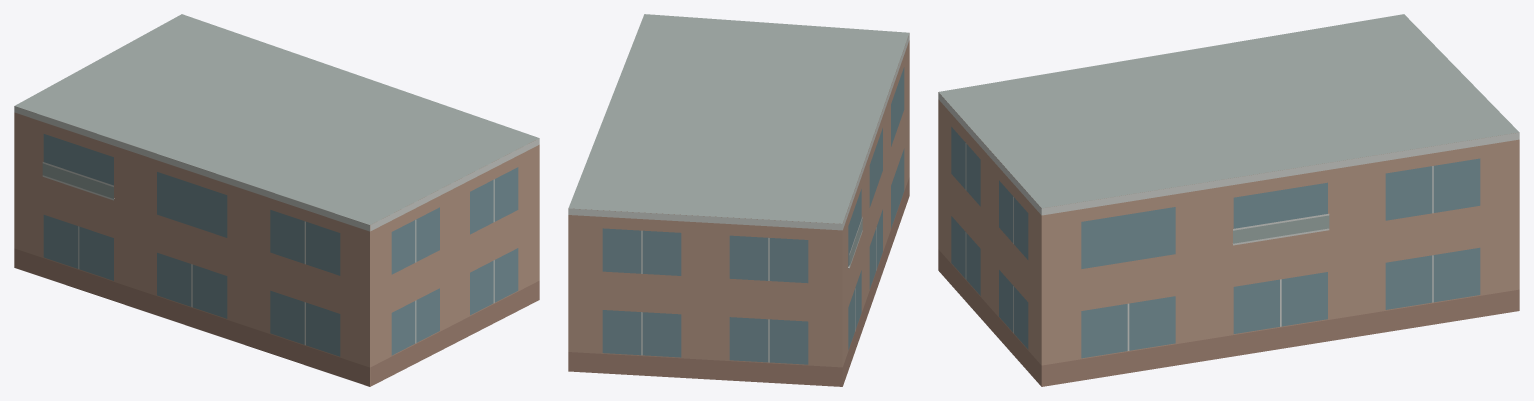
File: survey-upis-32949436.glb
The picture shows the model from 3 angles, left to right: view 1: azimuth 30°, elevation 25°; view 2: azimuth 150°, elevation 25°; view 3: azimuth 270°, elevation 25°; orthographic projection. The views are drawn at different scales.
Visible parts, largest first — view 1: survey-upis-32949436.tmp; view 2: survey-upis-32949436.tmp; view 3: survey-upis-32949436.tmp.
Boxes of the visible parts, x1,y1,x2,y2 form: survey-upis-32949436.tmp: [14, 14, 539, 386]; survey-upis-32949436.tmp: [568, 14, 909, 386]; survey-upis-32949436.tmp: [938, 14, 1519, 386].
Size of the model in its own units: 14.26 by 6.1 by 18.02.
